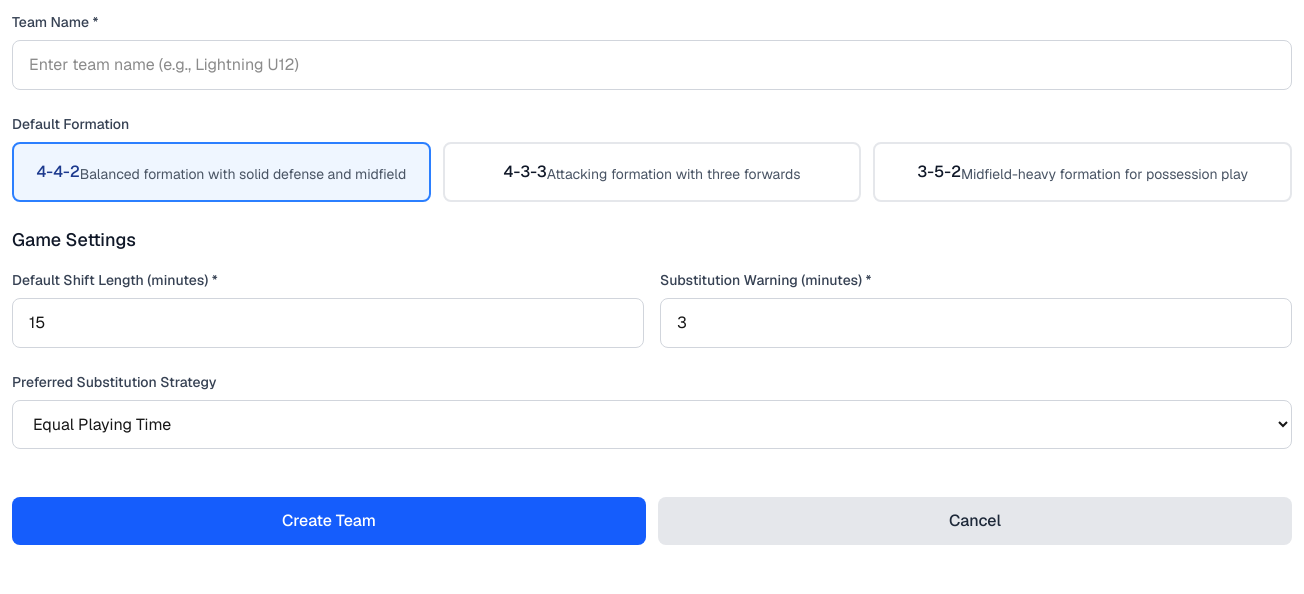
Test case: TeamSetup Component › TeamForm Component › should validate required fields
Click the button "Create Team".
click(329, 521)  # box [12, 497, 646, 545]
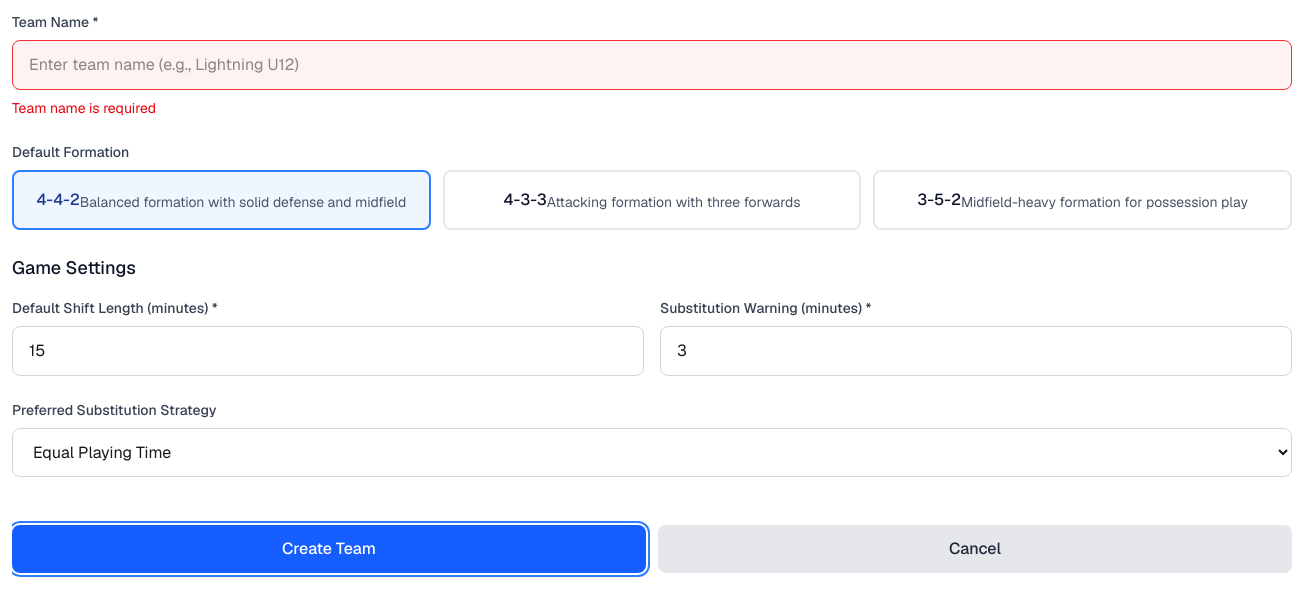
Expected: the text "Team name is required" is shown, [12, 99, 156, 117]
